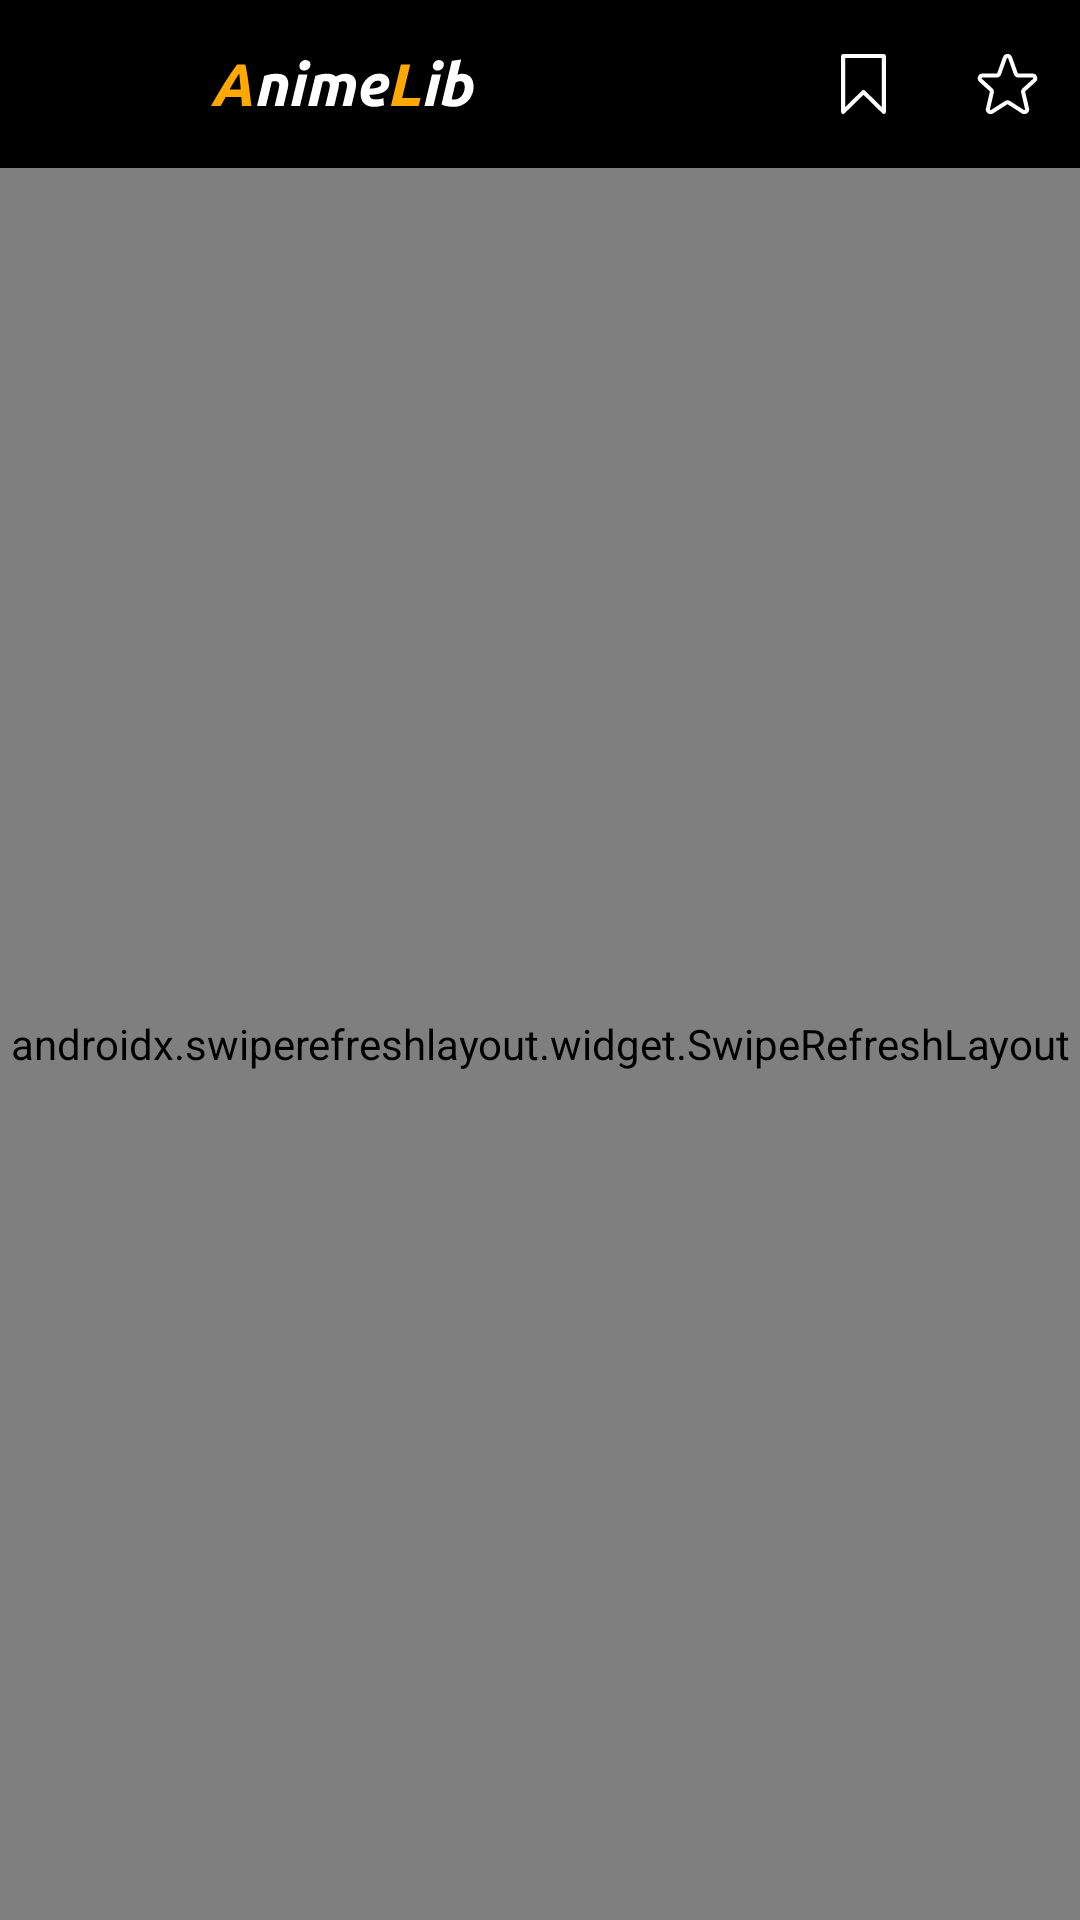

Screen size 1080 × 1920. Icon name, then its center in pixels as point (x, y):
checkbox favourite: point (1007, 84)
